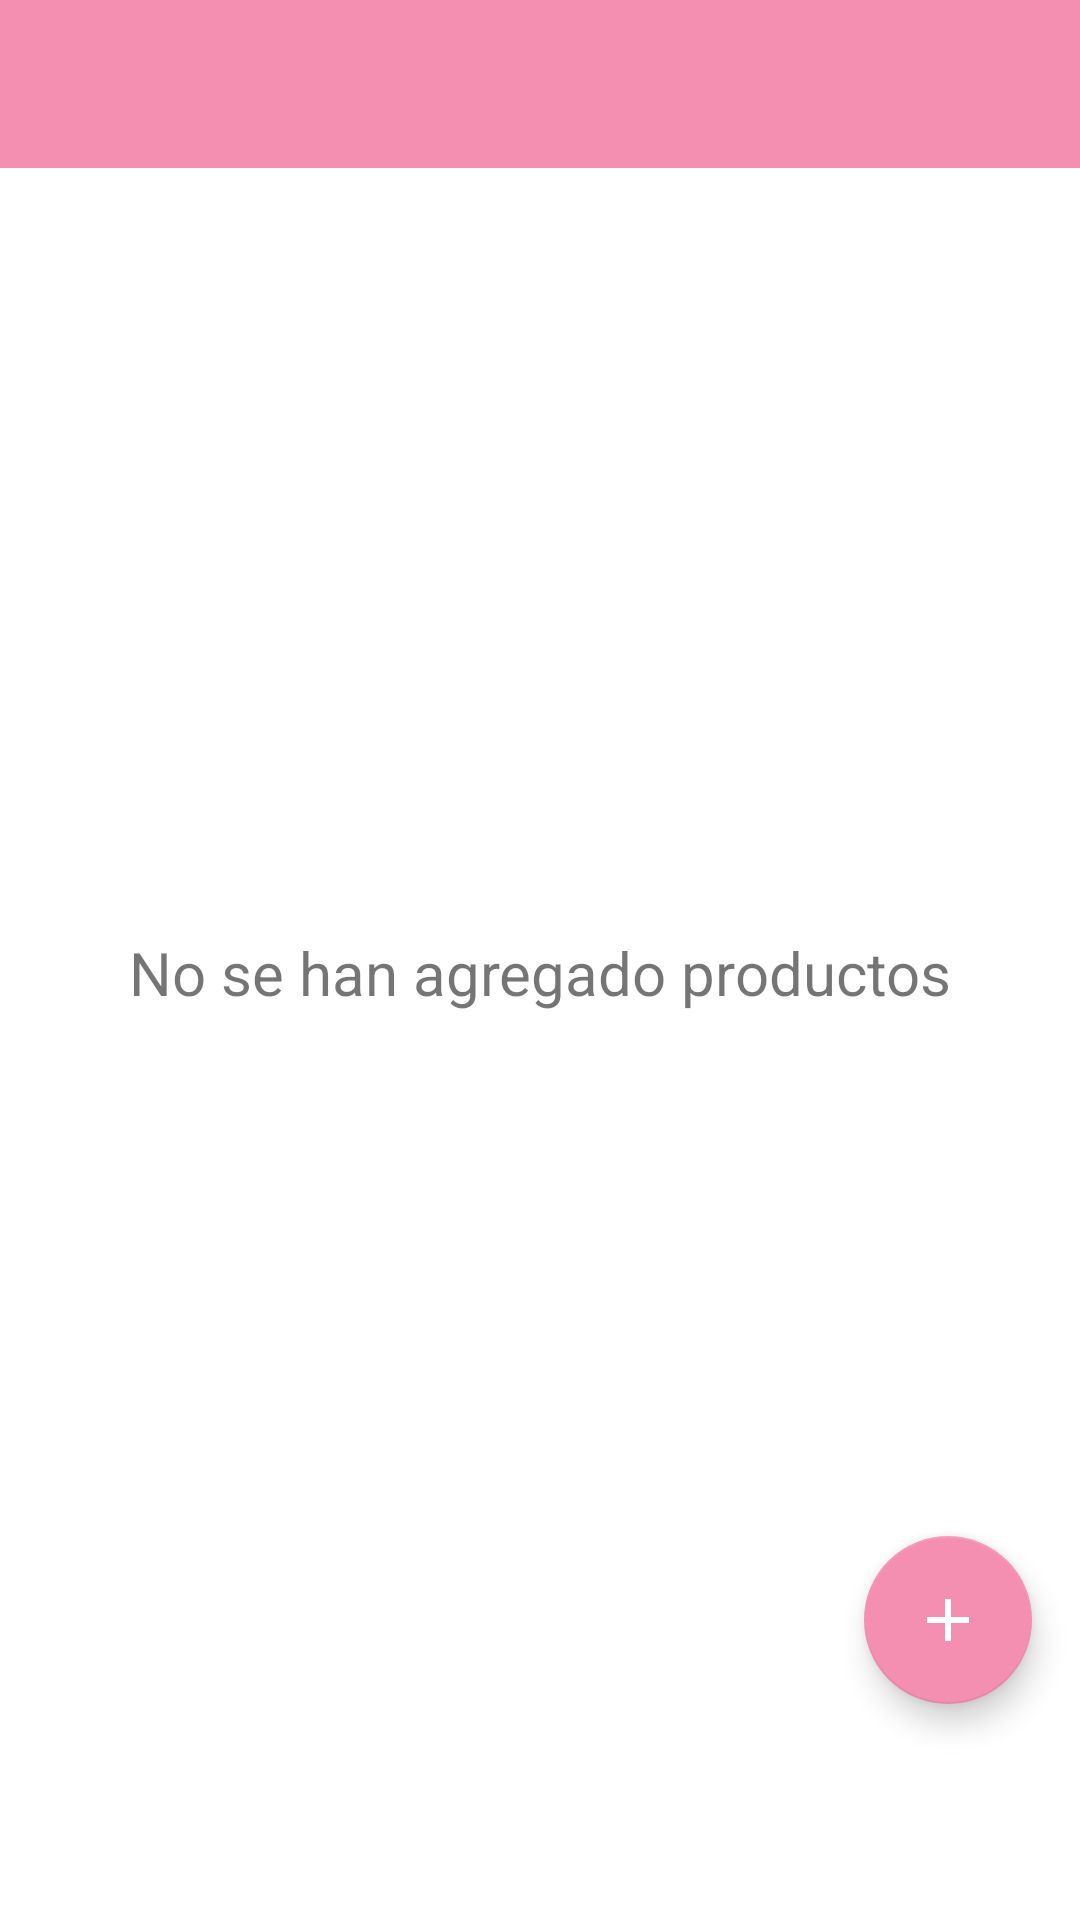

Locate icon controls on the screen. Image size 1080×1920, boxes as (x1, y1, x2, y2).
add: (864, 1536, 1032, 1704)
